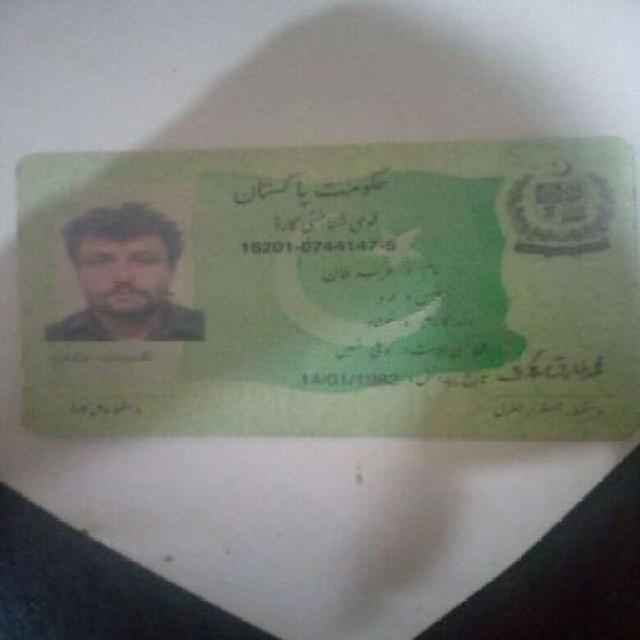Front: (7, 137, 638, 446)
